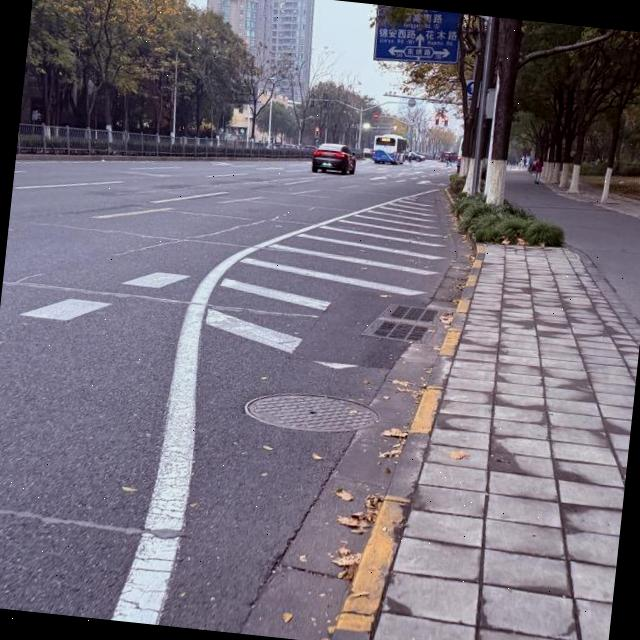curb: (333, 246, 482, 640), (567, 247, 640, 344), (15, 153, 303, 159)
